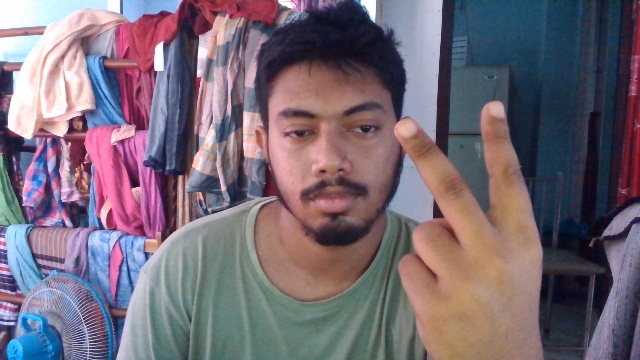thanks: (387, 98, 557, 341)
